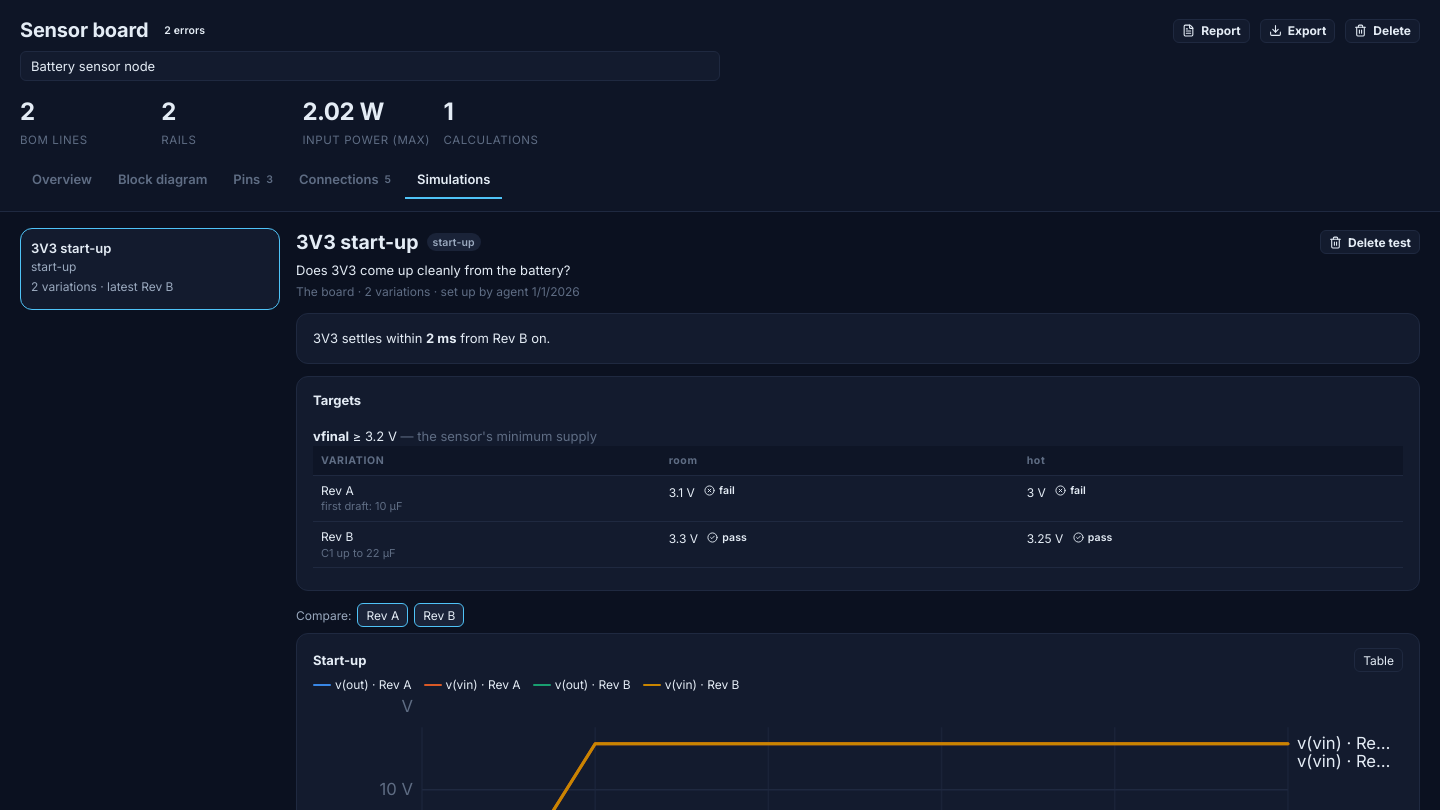
Test: the Simulations tab › shows a test across its variations: the targets as a matrix, the history, and a chart comparing them
Expected: the button "3V3 start-up start-up 2 variations · latest Rev B" is shown, [20,228,280,310]
Expected: the text "settles within" is shown, [313,330,426,346]
# Leaving Rev A out of the comparison redraws with Rev B alone.
Click the button "Rev A": (383, 616) [358,604,408,628]
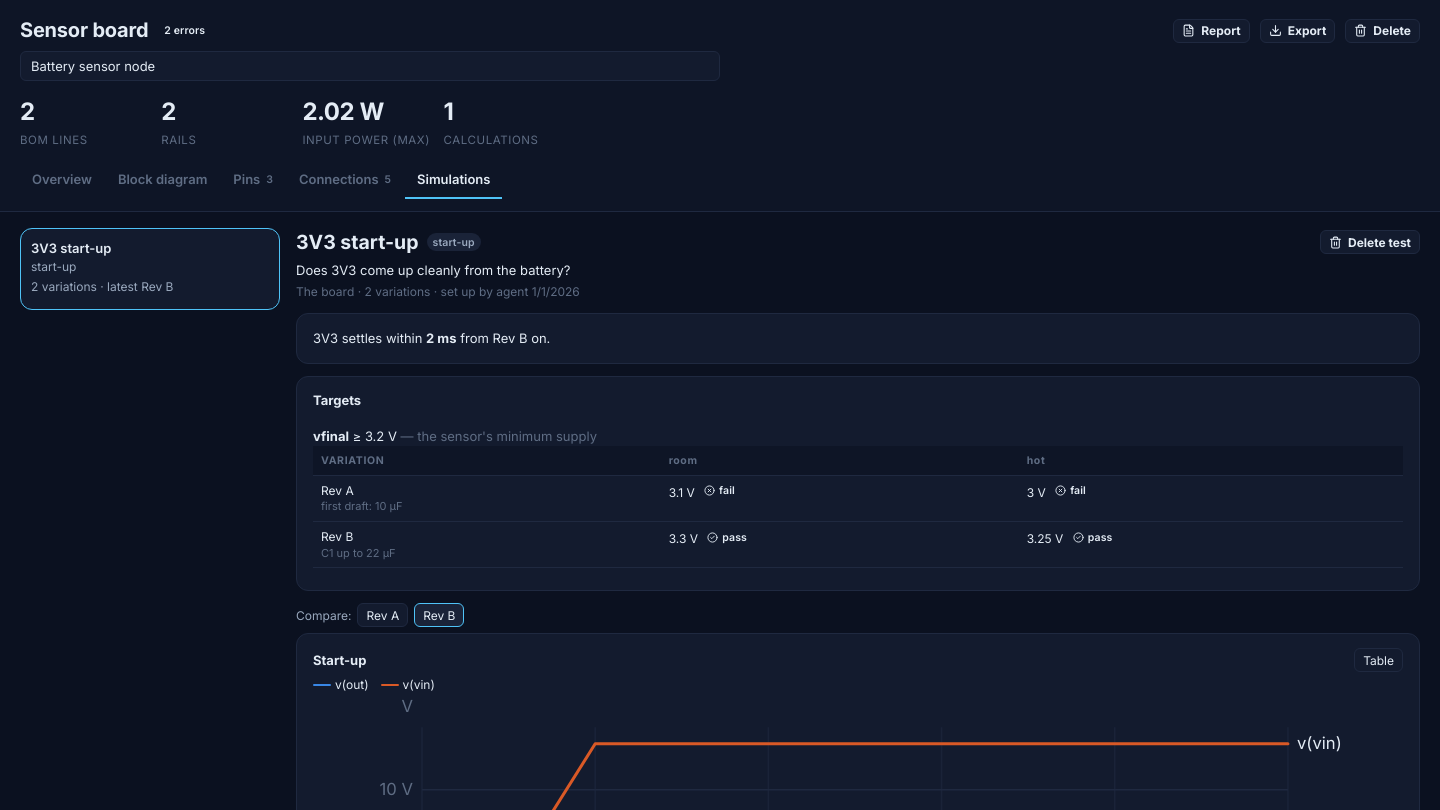
# Its values as a table.
Click the button "Table": (1379, 660) [1354,648,1403,672]
(page scrolled)
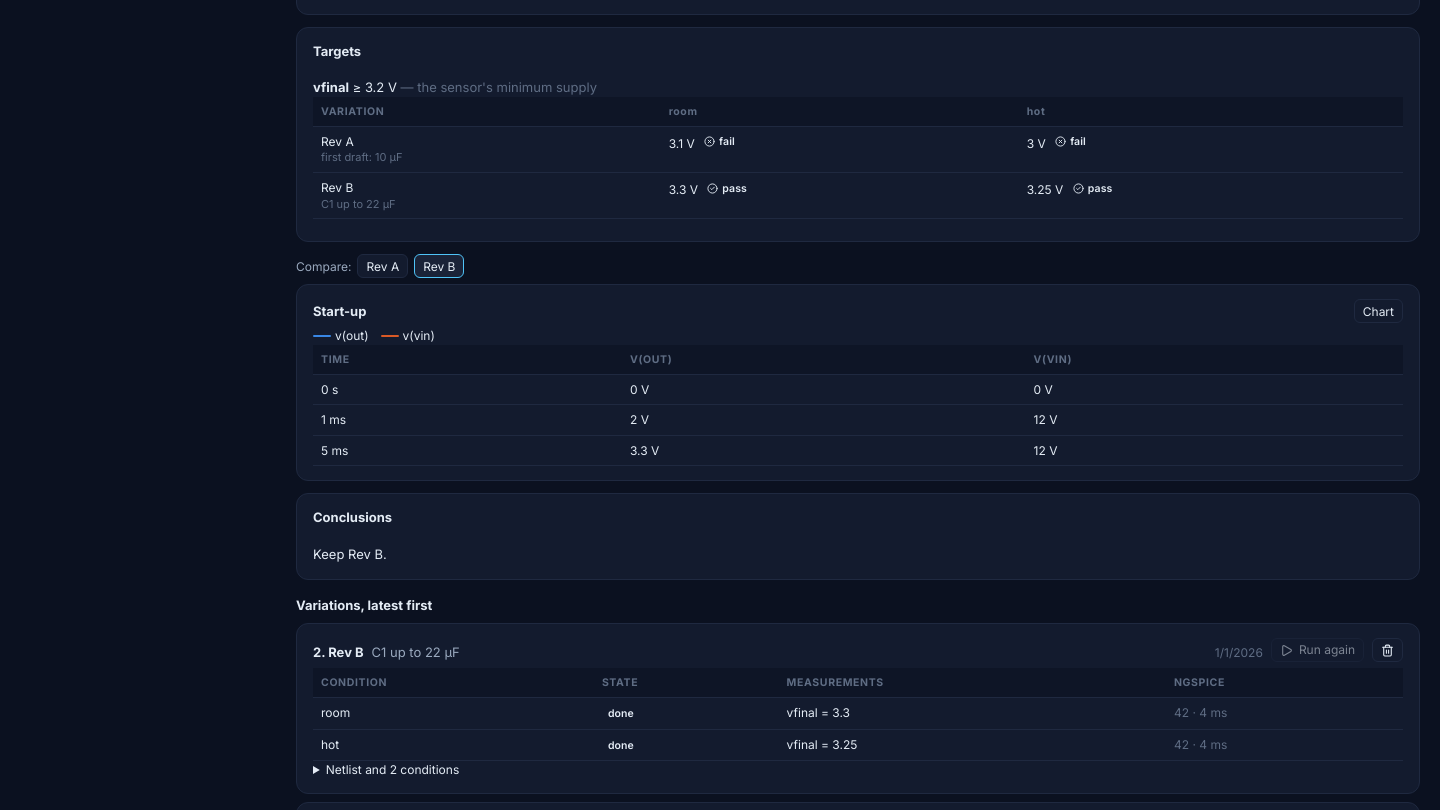
Expected: the table named "Chart values" is shown, [313,345,1403,466]
